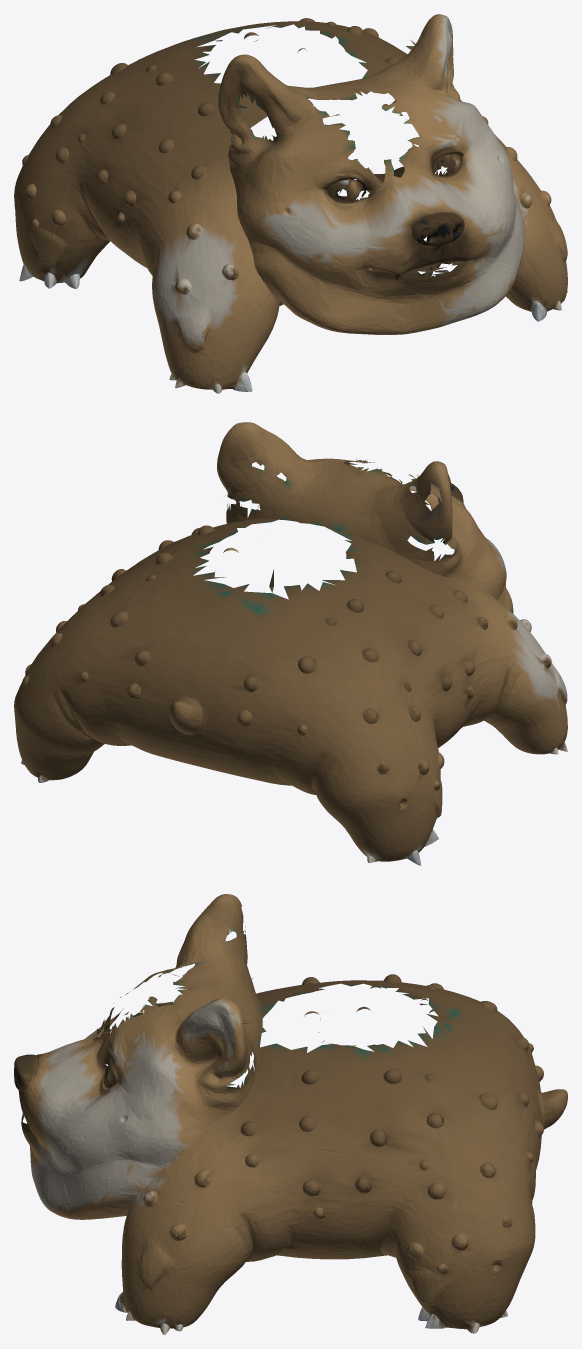
File: dogemon.glb
3 renders of one model, top to bottom at view 1: azimuth 30°, elevation 25°; view 2: azimuth 150°, elevation 25°; view 3: azimuth 270°, elevation 25°, orthographic. The views are drawn at different scales.
Size of the model in its own units: 0.8418 by 0.5688 by 0.9645.
